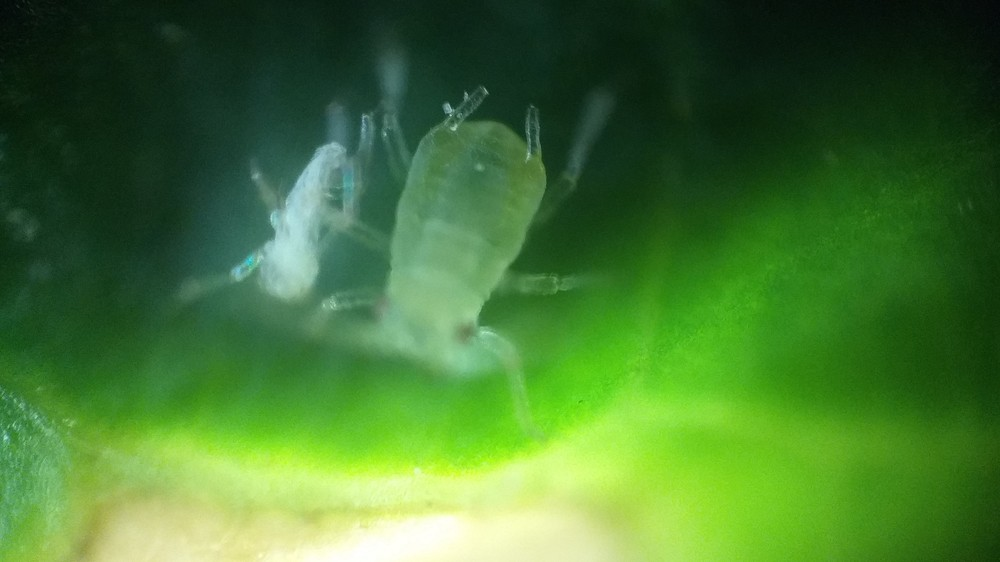Pulgon: (326, 54, 656, 442)
